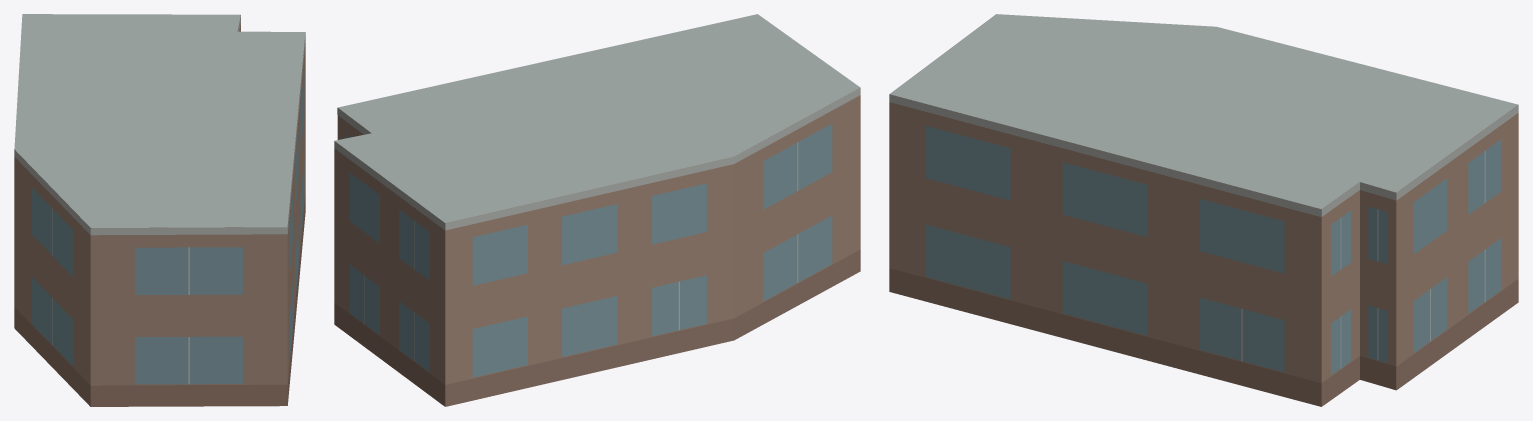
File: survey-upis-33044467.glb
3 views of the same model, side by side, from view 1: azimuth 30°, elevation 25°; view 2: azimuth 150°, elevation 25°; view 3: azimuth 270°, elevation 25° (orthographic). The views are drawn at different scales.
Visible parts, largest first — view 1: survey-upis-33044467.tmp; view 2: survey-upis-33044467.tmp; view 3: survey-upis-33044467.tmp.
Part boxes in pixels (bbox=[...]): survey-upis-33044467.tmp: bbox=[14, 14, 305, 406]; survey-upis-33044467.tmp: bbox=[334, 14, 860, 406]; survey-upis-33044467.tmp: bbox=[889, 14, 1518, 406].
Bounding box in the file's own units: 12.93 × 6.1 × 17.61.
